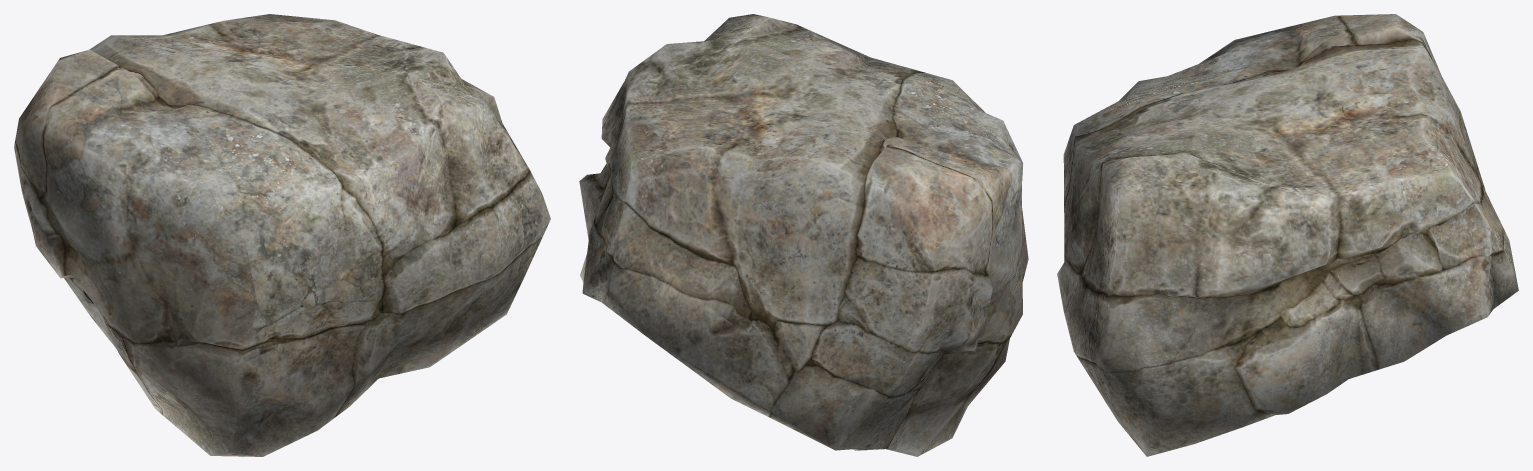
File: Rock2.fbx
3 renders of one model, left to right at view 1: azimuth 30°, elevation 25°; view 2: azimuth 150°, elevation 25°; view 3: azimuth 270°, elevation 25°, orthographic. The views are drawn at different scales.
Parts seen in each view (by area): view 1: Rock2_400_tris_Group75; view 2: Rock2_400_tris_Group75; view 3: Rock2_400_tris_Group75.
Boxes of the visible parts, box(x1,y1,x2,y2) form: Rock2_400_tris_Group75: box(14, 14, 550, 456); Rock2_400_tris_Group75: box(579, 14, 1028, 456); Rock2_400_tris_Group75: box(1057, 14, 1518, 456).
Size of the model in its own units: 4.68 by 3.62 by 4.14.
Materials: 1 (1 with a texture image).
